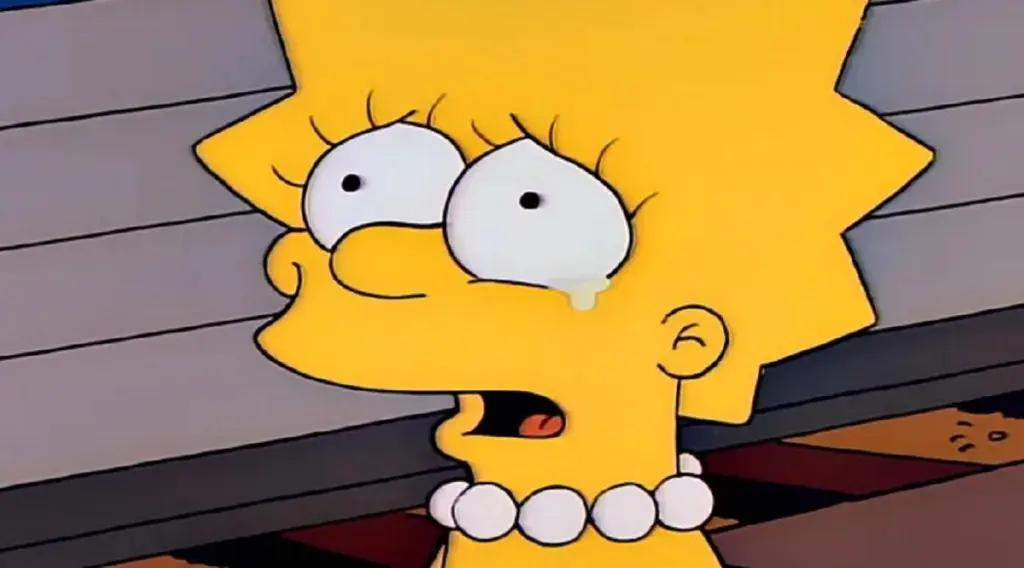Lisa: (187, 0, 969, 568)
